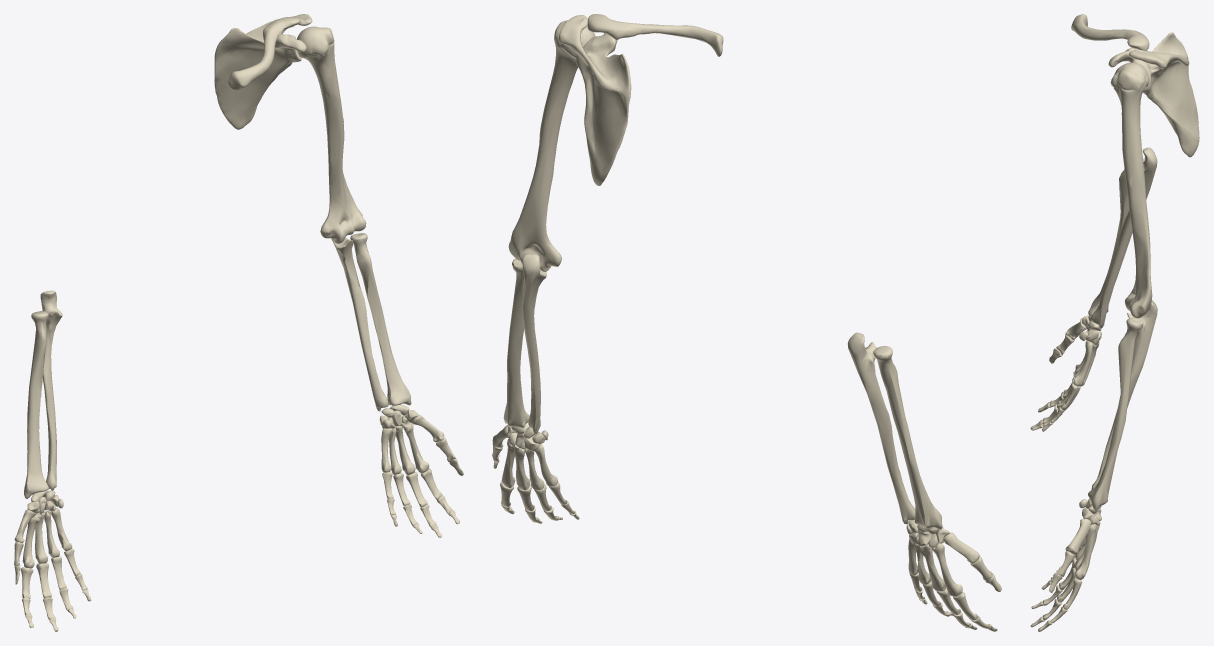
The model's file is upper-limb-balanced.glb.
3 views of the same model, side by side, from view 1: azimuth 30°, elevation 25°; view 2: azimuth 150°, elevation 25°; view 3: azimuth 270°, elevation 25° (orthographic). The views are drawn at different scales.
Parts seen in each view (by area): view 1: bp3d.FMA23131, bp3d.FMA13396, bp3d.FMA23914, bp3d.FMA9612, bp3d.FMA23464, bp3d.FMA23465, bp3d.FMA23468, bp3d.FMA23467, bp3d.FMA13323, bp3d.FMA23889; view 2: bp3d.FMA13396, bp3d.FMA23131, bp3d.FMA9612, bp3d.FMA23914, bp3d.FMA23467, bp3d.FMA23464, bp3d.FMA23465, bp3d.FMA23468, bp3d.FMA13323, bp3d.FMA23889; view 3: bp3d.FMA23131, bp3d.FMA13396, bp3d.FMA23914, bp3d.FMA23465, bp3d.FMA9612, bp3d.FMA23467, bp3d.FMA23468, bp3d.FMA13323, bp3d.FMA23889, bp3d.FMA23464.
Boxes of the visible parts, left/top/right/bottom form: bp3d.FMA23131: left=297, top=26, right=366, bottom=243; bp3d.FMA13396: left=214, top=14, right=312, bottom=129; bp3d.FMA23914: left=14, top=437, right=463, bottom=631; bp3d.FMA9612: left=14, top=414, right=444, bottom=568; bp3d.FMA23464: left=24, top=311, right=48, bottom=498; bp3d.FMA23465: left=350, top=233, right=411, bottom=405; bp3d.FMA23468: left=331, top=237, right=388, bottom=411; bp3d.FMA23467: left=40, top=290, right=62, bottom=490; bp3d.FMA13323: left=228, top=17, right=299, bottom=90; bp3d.FMA23889: left=27, top=404, right=417, bottom=513; bp3d.FMA13396: left=559, top=15, right=631, bottom=185; bp3d.FMA23131: left=508, top=20, right=595, bottom=271; bp3d.FMA9612: left=492, top=425, right=979, bottom=596; bp3d.FMA23914: left=492, top=443, right=1001, bottom=631; bp3d.FMA23467: left=847, top=332, right=915, bottom=524; bp3d.FMA23464: left=873, top=346, right=942, bottom=529; bp3d.FMA23465: left=503, top=258, right=529, bottom=427; bp3d.FMA23468: left=522, top=253, right=546, bottom=433; bp3d.FMA13323: left=587, top=14, right=723, bottom=56; bp3d.FMA23889: left=507, top=424, right=949, bottom=547; bp3d.FMA23131: left=1110, top=62, right=1152, bottom=318; bp3d.FMA13396: left=1108, top=32, right=1199, bottom=157; bp3d.FMA23914: left=1030, top=334, right=1082, bottom=631; bp3d.FMA23465: left=1088, top=317, right=1143, bottom=510; bp3d.FMA9612: left=1065, top=318, right=1100, bottom=579; bp3d.FMA23467: left=1091, top=147, right=1157, bottom=328; bp3d.FMA23468: left=1091, top=300, right=1157, bottom=489; bp3d.FMA13323: left=1071, top=14, right=1149, bottom=50; bp3d.FMA23889: left=1079, top=315, right=1101, bottom=525; bp3d.FMA23464: left=1088, top=157, right=1143, bottom=316.
Bounding box in the file's own units: 0.6479 × 0.7021 × 0.2005.
